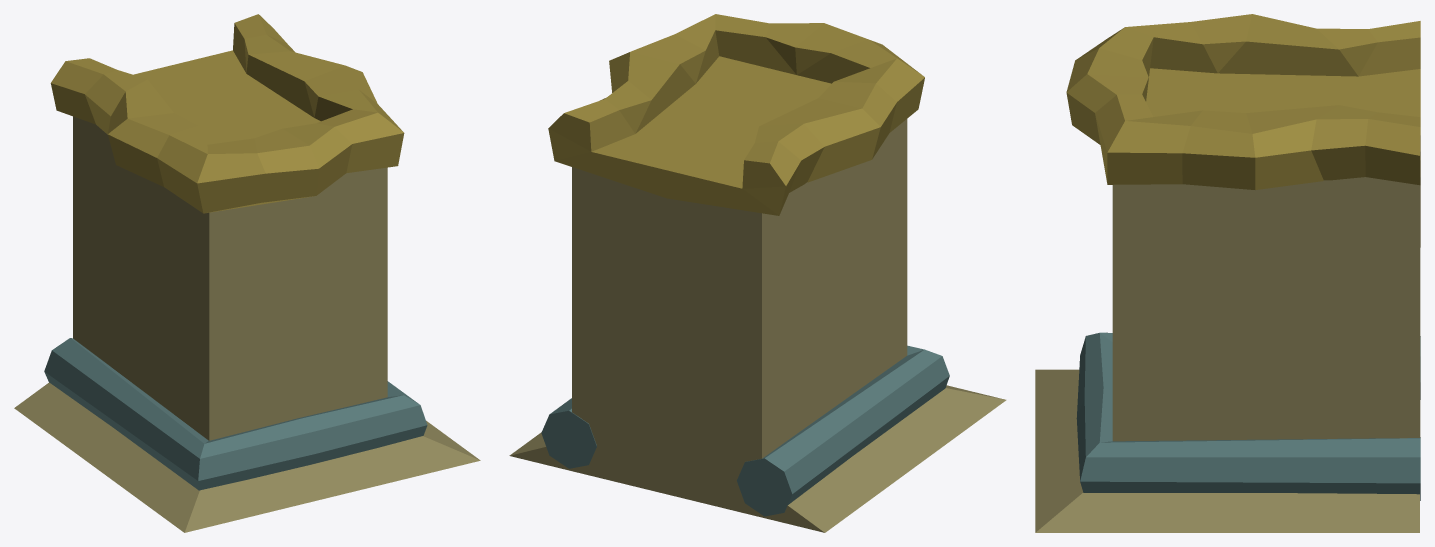
Rendered from Int_23_Wall_Vert_Mid_End_Up.fbx.
3 views of the same model, side by side, from view 1: azimuth 30°, elevation 25°; view 2: azimuth 150°, elevation 25°; view 3: azimuth 270°, elevation 25° (orthographic). The views are drawn at different scales.
Parts seen in each view (by area): view 1: Int_23_Wall_Vert_Mid_End_Up1; view 2: Int_23_Wall_Vert_Mid_End_Up1; view 3: Int_23_Wall_Vert_Mid_End_Up1.
Part boxes in pixels (bbox=[...]): Int_23_Wall_Vert_Mid_End_Up1: bbox=[14, 14, 480, 532]; Int_23_Wall_Vert_Mid_End_Up1: bbox=[509, 14, 1006, 532]; Int_23_Wall_Vert_Mid_End_Up1: bbox=[1035, 14, 1420, 532].
Bounding box in the file's own units: 1 × 1.08 × 0.9986.
